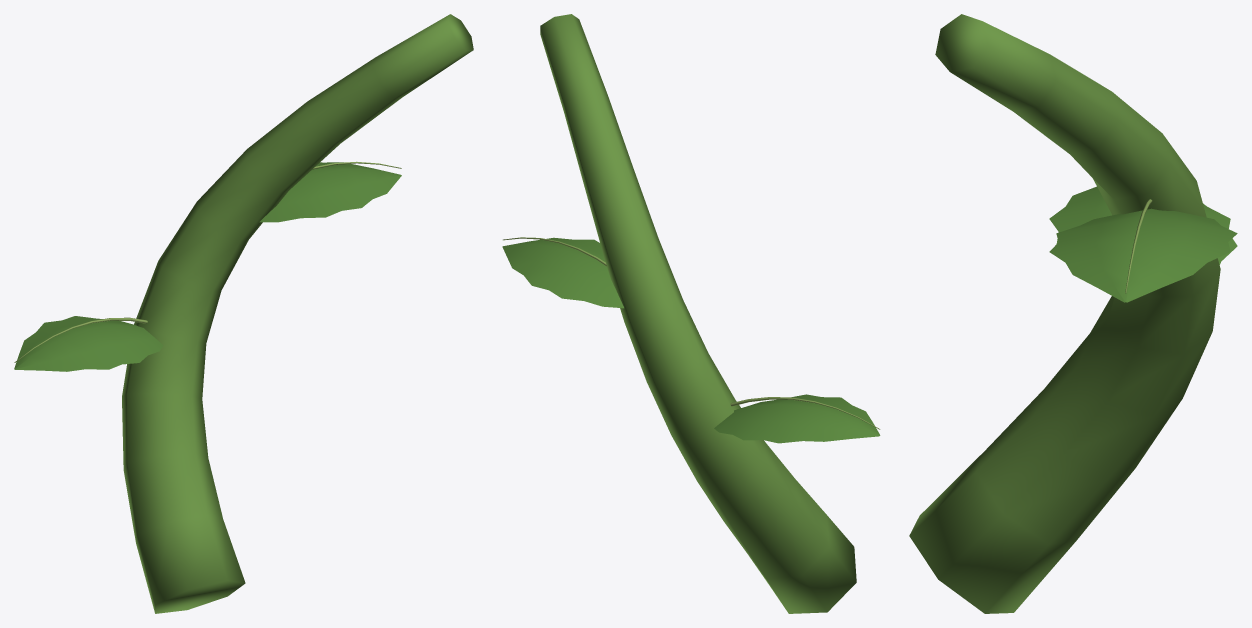
Rendered from sunflower-test-sprout-0.glb.
3 views of the same model, side by side, from view 1: azimuth 30°, elevation 25°; view 2: azimuth 150°, elevation 25°; view 3: azimuth 270°, elevation 25° (orthographic). The views are drawn at different scales.
Visible parts, largest first — view 1: Curved tapered stem; view 2: Curved tapered stem; view 3: Curved tapered stem.
Boxes of the visible parts, box(x1,y1,x2,y2) form: Curved tapered stem: box(14, 14, 473, 613); Curved tapered stem: box(502, 14, 880, 613); Curved tapered stem: box(909, 14, 1237, 613).
Bounding box in the file's own units: 0.0843 × 0.1086 × 0.0423.
